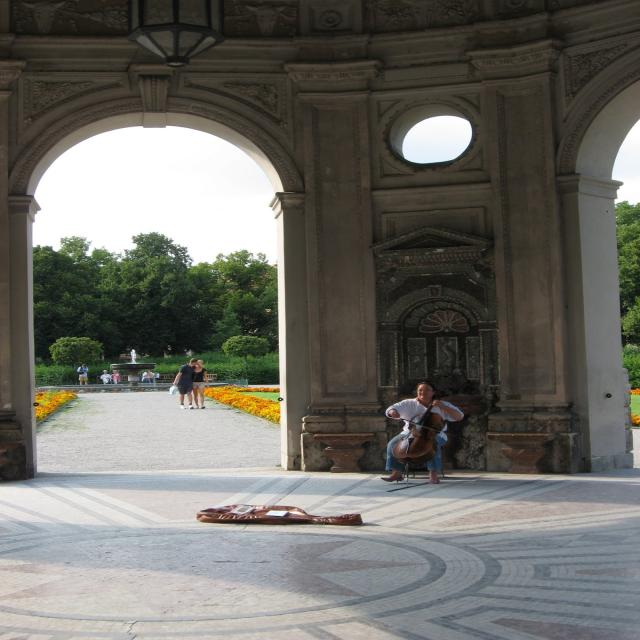cello: (390, 389, 446, 465)
